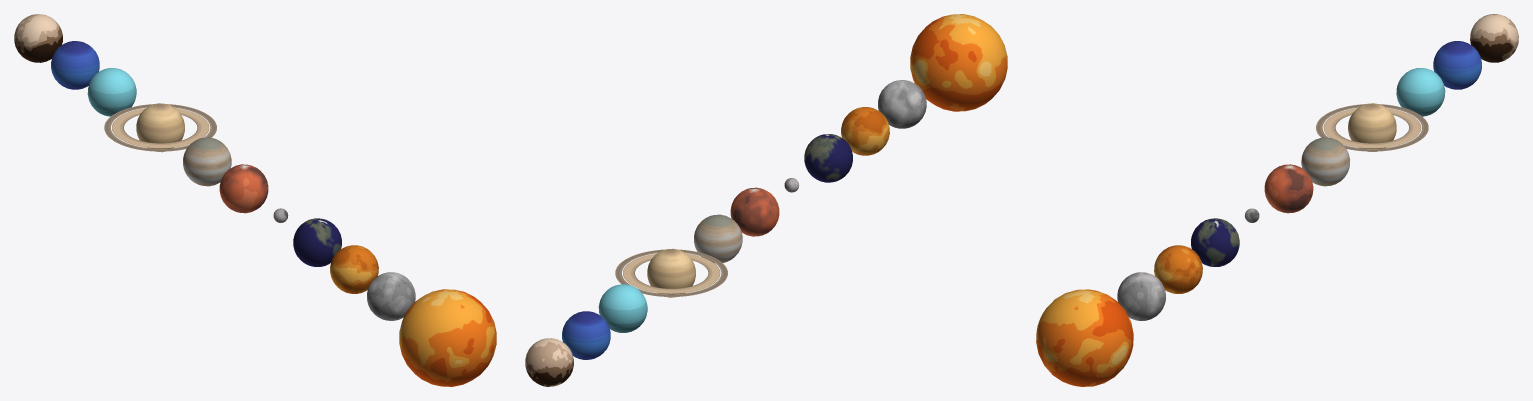
Rendered from Planets Cartoon.FBX.
3 renders of one model, left to right at view 1: azimuth 30°, elevation 25°; view 2: azimuth 150°, elevation 25°; view 3: azimuth 330°, elevation 25°, orthographic.
Parts seen in each view (by area): view 1: Sun, SaturnRing, Mars, Jupiter, Neptune, Earth, Mercury, Venus, Pluto, Uranus, Saturn; view 2: Sun, SaturnRing, Earth, Pluto, Mars, Neptune, Uranus, Mercury, Venus, Jupiter, Saturn; view 3: Sun, SaturnRing, Mars, Jupiter, Mercury, Venus, Pluto, Earth, Neptune, Uranus, Saturn.
Boxes of the visible parts, x1=… form: Sun: x1=399, y1=289, x2=496, y2=386; SaturnRing: x1=104, y1=104, x2=216, y2=151; Mars: x1=219, y1=164, x2=268, y2=213; Jupiter: x1=183, y1=137, x2=231, y2=186; Neptune: x1=51, y1=41, x2=99, y2=89; Earth: x1=293, y1=218, x2=341, y2=266; Mercury: x1=367, y1=272, x2=415, y2=320; Venus: x1=330, y1=245, x2=378, y2=293; Pluto: x1=14, y1=14, x2=62, y2=62; Uranus: x1=87, y1=68, x2=136, y2=116; Saturn: x1=136, y1=103, x2=184, y2=152; Sun: x1=910, y1=14, x2=1007, y2=111; SaturnRing: x1=615, y1=249, x2=727, y2=296; Earth: x1=804, y1=134, x2=852, y2=182; Pluto: x1=525, y1=338, x2=573, y2=386; Mars: x1=730, y1=187, x2=779, y2=236; Neptune: x1=562, y1=311, x2=610, y2=359; Uranus: x1=598, y1=284, x2=647, y2=332; Mercury: x1=878, y1=80, x2=926, y2=128; Venus: x1=841, y1=107, x2=889, y2=155; Jupiter: x1=694, y1=214, x2=742, y2=263; Saturn: x1=647, y1=248, x2=695, y2=297; Sun: x1=1036, y1=289, x2=1133, y2=386; SaturnRing: x1=1316, y1=104, x2=1428, y2=151; Mars: x1=1264, y1=164, x2=1313, y2=213; Jupiter: x1=1301, y1=137, x2=1349, y2=186; Mercury: x1=1117, y1=272, x2=1165, y2=320; Venus: x1=1154, y1=245, x2=1202, y2=293; Pluto: x1=1470, y1=14, x2=1518, y2=62; Earth: x1=1191, y1=218, x2=1239, y2=266; Neptune: x1=1433, y1=41, x2=1481, y2=89; Uranus: x1=1396, y1=68, x2=1445, y2=116; Saturn: x1=1348, y1=103, x2=1396, y2=151.
Bounding box in the file's own units: 233 × 200 × 1818.
